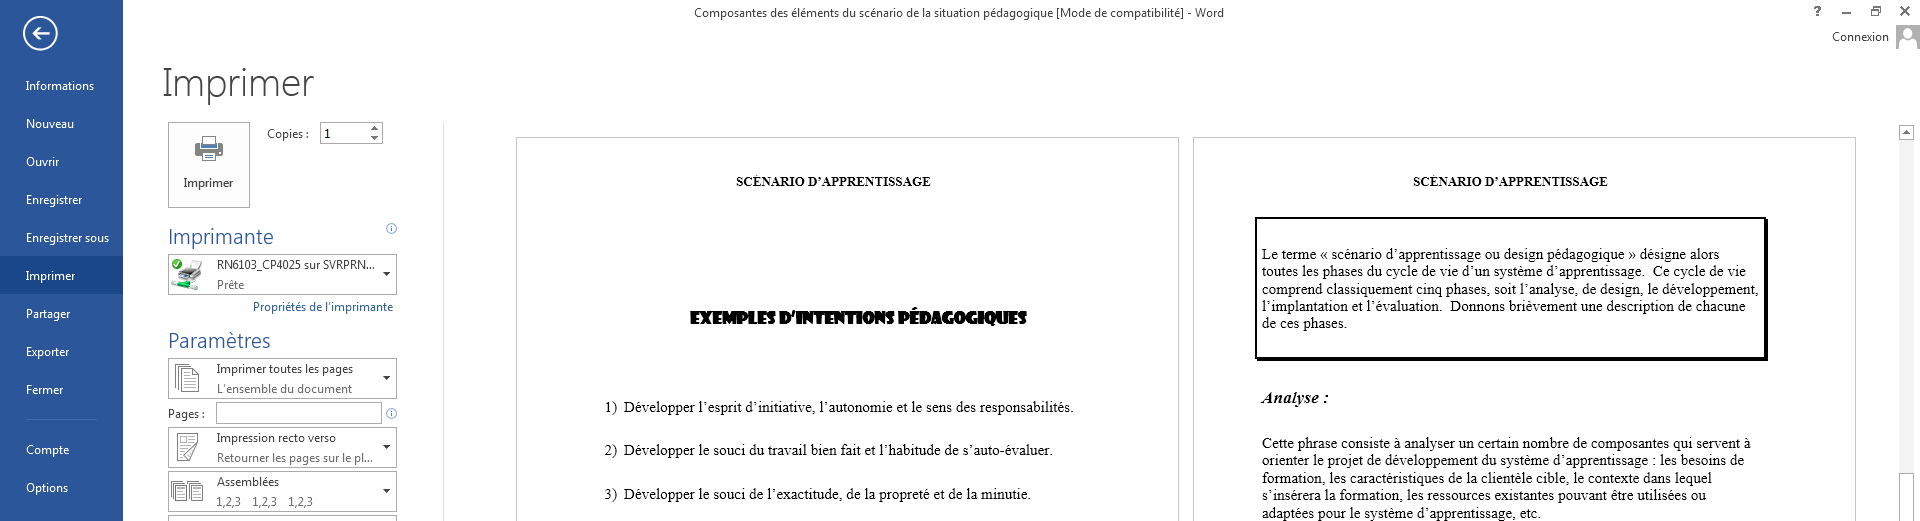texte: (164, 68, 314, 105), (902, 306, 1031, 333), (778, 306, 893, 333), (170, 225, 273, 254), (686, 306, 770, 333), (695, 0, 766, 27), (1114, 0, 1183, 27), (217, 364, 353, 376), (170, 332, 270, 348), (171, 468, 207, 511), (184, 166, 233, 196), (1386, 248, 1481, 262), (1663, 283, 1758, 297), (1553, 454, 1648, 468), (1417, 507, 1512, 521), (1547, 265, 1641, 279), (1385, 454, 1478, 468), (980, 401, 1070, 415), (792, 0, 838, 27), (1350, 473, 1444, 486), (1262, 300, 1348, 314), (1327, 283, 1412, 297), (860, 0, 901, 27), (808, 177, 930, 186), (1485, 177, 1607, 186), (624, 401, 702, 415), (1547, 248, 1624, 262), (624, 444, 695, 458), (624, 488, 695, 502), (1895, 469, 1914, 521), (768, 488, 842, 501), (963, 444, 1049, 455), (1607, 300, 1674, 314), (1591, 439, 1669, 451), (268, 354, 300, 383), (326, 354, 356, 383), (1261, 392, 1319, 407), (1262, 283, 1322, 297), (1262, 472, 1325, 485), (1520, 283, 1578, 297), (985, 8, 1051, 20), (820, 401, 892, 412), (1509, 300, 1577, 311), (1895, 116, 1919, 147), (1262, 507, 1314, 521), (195, 136, 223, 161), (1405, 437, 1455, 451), (1376, 300, 1439, 311), (217, 433, 274, 445), (218, 384, 293, 393), (332, 303, 393, 314), (27, 195, 82, 207), (27, 233, 82, 245), (880, 444, 940, 455), (879, 489, 929, 502), (1340, 489, 1399, 500), (1640, 248, 1686, 262), (758, 403, 815, 414), (1494, 266, 1542, 279), (1501, 455, 1549, 468), (1365, 508, 1413, 521), (1446, 283, 1490, 297), (26, 81, 94, 90), (254, 302, 305, 314), (737, 177, 804, 186), (1414, 177, 1481, 186), (26, 271, 75, 283), (1601, 283, 1643, 297), (1558, 491, 1607, 503), (1263, 490, 1321, 500), (1896, 25, 1920, 49), (1481, 472, 1532, 483), (1323, 265, 1363, 279), (1303, 317, 1343, 331), (217, 477, 279, 486), (1450, 301, 1505, 311), (1637, 489, 1687, 500), (1504, 248, 1543, 262), (1298, 437, 1337, 451), (1696, 300, 1745, 311), (1495, 491, 1554, 500), (1675, 472, 1712, 486), (27, 309, 70, 321), (1523, 437, 1569, 448), (27, 445, 69, 457), (1332, 249, 1382, 259), (1833, 32, 1888, 41), (1681, 454, 1726, 465), (27, 483, 68, 495), (298, 384, 352, 393), (304, 354, 320, 383), (218, 453, 269, 462), (1588, 474, 1639, 483), (1386, 265, 1417, 279), (1674, 265, 1705, 279), (1428, 493, 1490, 500), (1342, 439, 1390, 448), (768, 444, 807, 455), (1262, 456, 1309, 465), (268, 129, 303, 141), (1537, 472, 1569, 485), (27, 119, 73, 128), (981, 490, 1027, 499), (708, 403, 742, 415), (1328, 457, 1363, 468), (27, 347, 69, 356), (1814, 6, 1851, 16), (324, 260, 365, 269), (1478, 439, 1519, 448), (281, 374, 294, 402), (1057, 8, 1090, 19), (265, 260, 298, 271), (169, 409, 199, 421), (935, 9, 979, 17), (1697, 440, 1740, 448), (218, 260, 256, 269), (1262, 267, 1298, 276), (1262, 438, 1294, 448), (1690, 248, 1719, 259), (36, 16, 45, 51), (1462, 265, 1490, 276), (27, 157, 59, 166), (811, 444, 837, 455), (1644, 472, 1670, 483), (1318, 511, 1346, 521), (1282, 251, 1316, 259), (290, 456, 320, 465), (1417, 287, 1442, 297), (223, 505, 306, 508), (907, 0, 916, 27), (143, 62, 148, 109), (218, 280, 244, 289), (956, 401, 976, 412), (841, 444, 861, 455), (1611, 490, 1633, 500), (714, 448, 745, 455), (714, 492, 745, 499), (1199, 8, 1223, 17), (217, 497, 240, 506), (253, 497, 276, 506), (289, 497, 312, 506), (279, 434, 304, 442), (1352, 300, 1370, 311), (1650, 443, 1656, 475), (1674, 441, 1692, 451), (1302, 265, 1318, 276), (1660, 454, 1676, 465), (1330, 472, 1346, 483), (1407, 489, 1423, 500), (927, 405, 952, 412), (1495, 286, 1516, 294), (605, 444, 617, 458), (605, 488, 617, 502), (1367, 265, 1382, 276), (1482, 454, 1497, 465), (308, 436, 335, 442), (1262, 249, 1278, 259), (1653, 266, 1669, 276), (1678, 300, 1692, 311), (1262, 317, 1276, 328), (606, 401, 617, 415), (750, 444, 764, 455), (1573, 437, 1587, 448), (1367, 454, 1381, 465), (1730, 454, 1744, 465), (310, 302, 327, 311), (1520, 509, 1537, 518), (173, 284, 198, 290), (1581, 304, 1602, 311), (772, 8, 788, 17), (1422, 265, 1435, 276), (1710, 265, 1723, 276), (1583, 283, 1596, 294), (945, 444, 958, 455), (1449, 472, 1462, 483), (750, 488, 763, 499), (847, 488, 860, 499), (949, 488, 962, 499), (1440, 269, 1458, 276), (1281, 321, 1299, 328), (1325, 489, 1336, 500), (1728, 269, 1745, 276), (273, 453, 286, 462), (1648, 283, 1658, 294), (912, 401, 922, 412), (699, 444, 709, 455), (1313, 454, 1323, 465), (1467, 472, 1477, 483), (1574, 472, 1584, 483), (699, 488, 709, 499), (865, 488, 875, 499), (967, 488, 977, 499), (1350, 507, 1360, 518), (1485, 252, 1500, 259), (1459, 441, 1474, 448), (1691, 493, 1706, 500), (1900, 6, 1910, 16), (1096, 8, 1107, 17), (897, 403, 908, 412), (934, 490, 945, 499), (371, 126, 378, 140), (355, 453, 363, 465), (920, 8, 930, 17), (305, 263, 320, 269), (865, 446, 875, 455), (324, 456, 339, 462), (844, 8, 853, 17), (746, 401, 753, 412), (343, 453, 351, 462), (1744, 438, 1750, 448), (1629, 252, 1636, 259), (325, 129, 330, 138), (1321, 252, 1327, 259), (187, 481, 199, 484), (391, 224, 396, 231), (1324, 395, 1328, 403), (1395, 438, 1398, 448), (383, 445, 390, 449), (1190, 13, 1191, 14)
